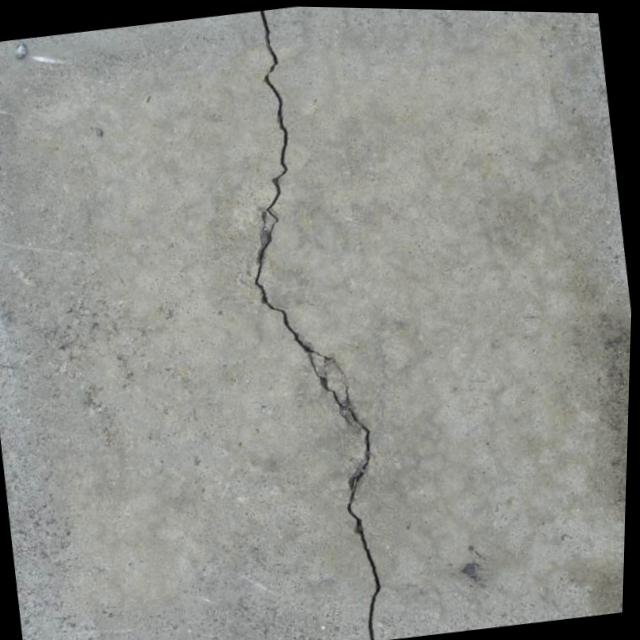Crack: (198, 4, 431, 640)
